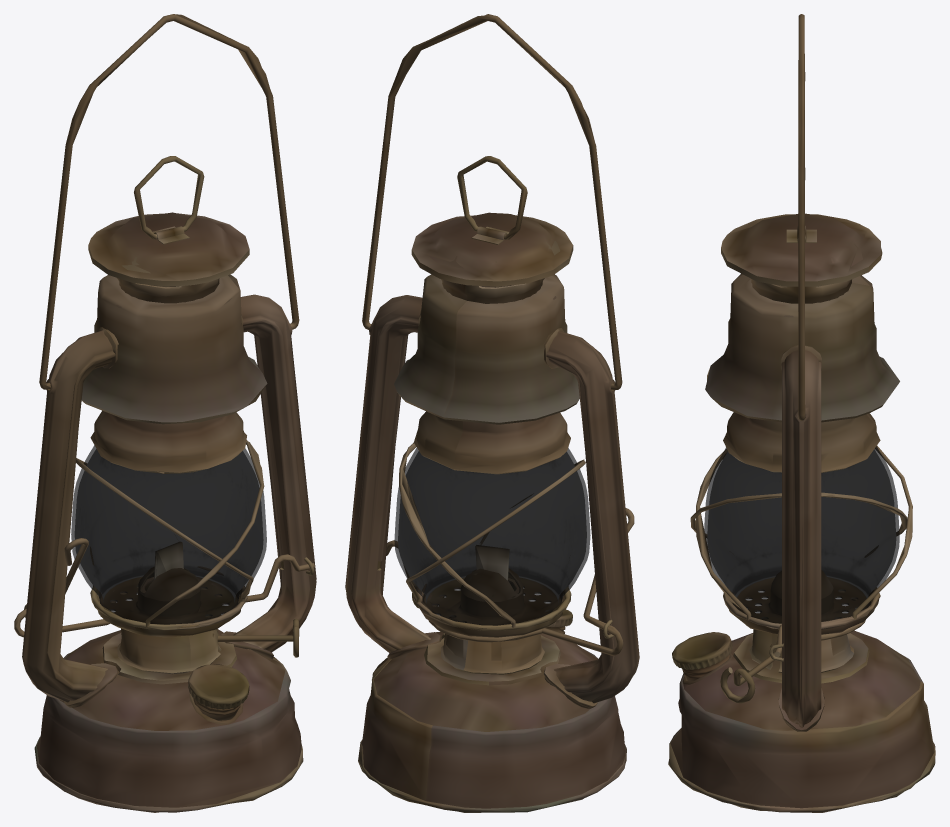
3 renders of one model, left to right at view 1: azimuth 30°, elevation 25°; view 2: azimuth 150°, elevation 25°; view 3: azimuth 270°, elevation 25°, orthographic.
Parts seen in each view (by area): view 1: Lantern_01, Lantern_01_glass; view 2: Lantern_01, Lantern_01_glass; view 3: Lantern_01, Lantern_01_glass.
Part boxes in pixels (x1=…): Lantern_01: x1=14, y1=14, x2=316, y2=812; Lantern_01_glass: x1=71, y1=445, x2=266, y2=624; Lantern_01: x1=345, y1=14, x2=639, y2=812; Lantern_01_glass: x1=394, y1=448, x2=590, y2=625; Lantern_01: x1=668, y1=14, x2=935, y2=812; Lantern_01_glass: x1=704, y1=446, x2=899, y2=623.
Size of the model in its own units: 0.1217 by 0.2942 by 0.0962.
Materials: 2 (2 with a texture image).
